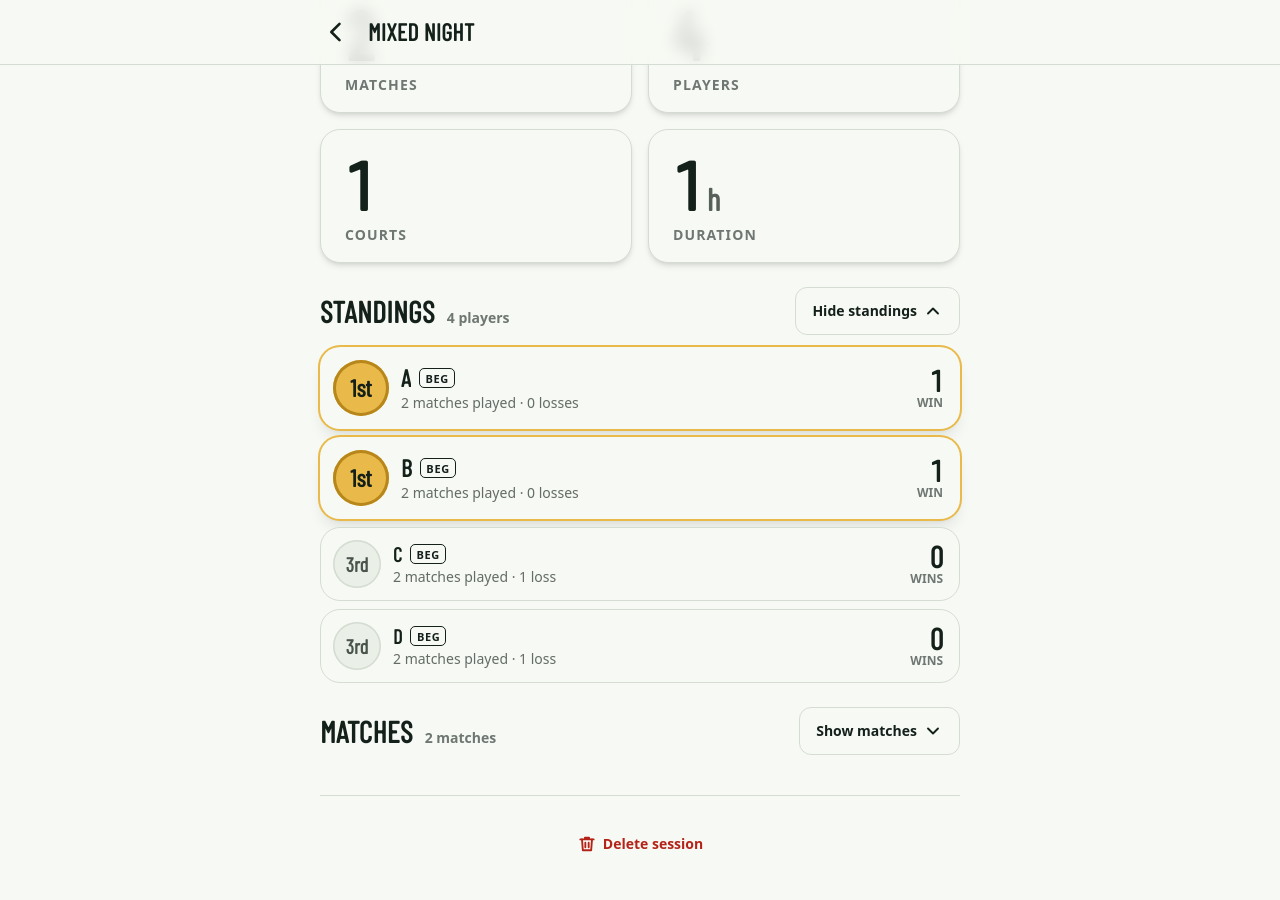
Test case: past sessions routes › shows each match's Target when both 21 and 31 were used
The width and height of the screenshot is (1280, 900).
(page scrolled)
Click the button "Show matches": (880, 731) [799, 707, 960, 755]
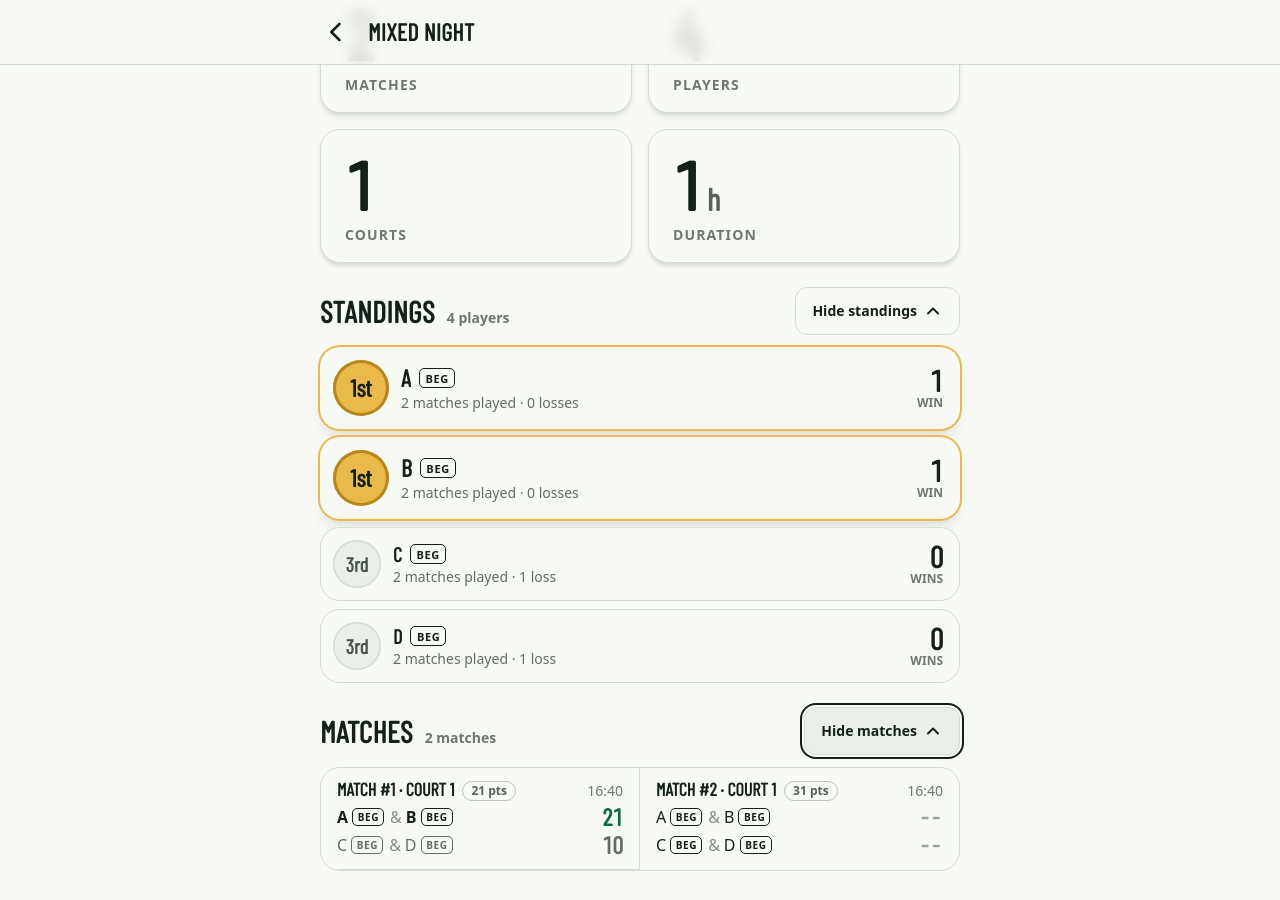
Expected: the 5th list item shows "21 pts", [321, 768, 640, 870]
Expected: the 6th list item shows "31 pts", [640, 768, 959, 870]
